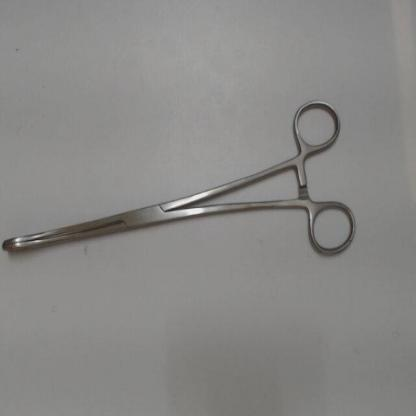Sponge Forceps: (1, 85, 366, 265)
